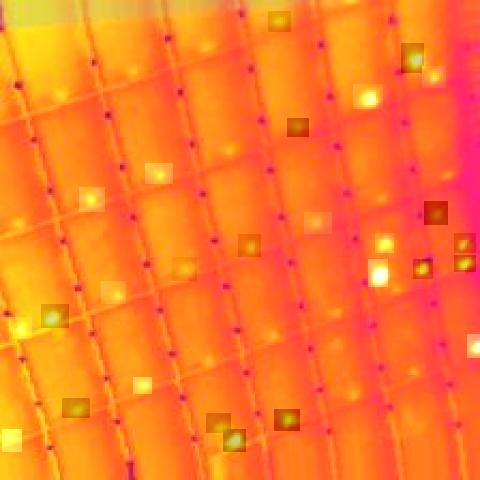fault: (354, 84, 384, 109), (401, 43, 424, 73), (42, 304, 70, 328), (79, 187, 105, 212), (304, 212, 332, 234), (172, 257, 197, 281), (146, 163, 174, 184), (424, 201, 448, 225), (101, 281, 126, 304), (274, 409, 300, 431), (368, 259, 388, 287), (62, 398, 90, 418), (238, 234, 261, 257), (223, 429, 246, 452), (422, 66, 446, 88), (9, 317, 32, 339), (206, 413, 231, 433), (268, 11, 291, 32), (2, 429, 22, 452), (454, 233, 476, 253), (287, 118, 309, 137), (413, 259, 433, 279), (375, 233, 394, 253), (454, 255, 476, 272), (133, 377, 152, 394), (467, 334, 480, 358)
